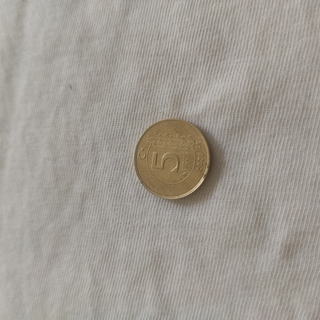5KURUS: (132, 117, 213, 201)
